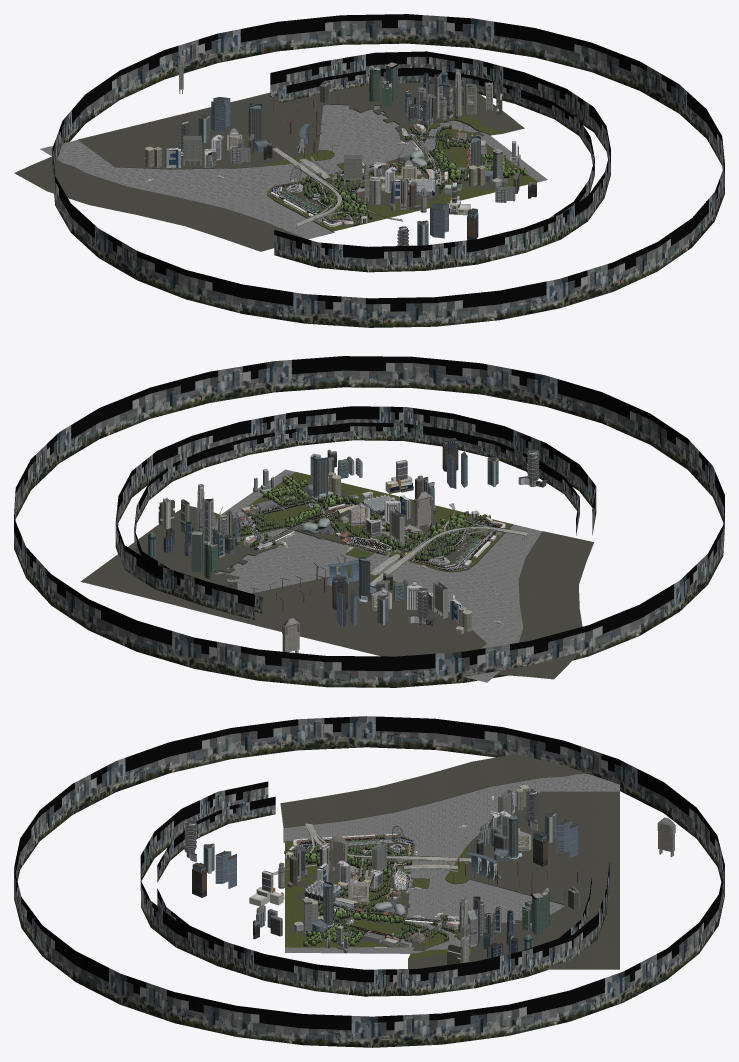
Rendered from marina-bay-track.glb.
3 views of the same model, one above another, from view 1: azimuth 30°, elevation 25°; view 2: azimuth 150°, elevation 25°; view 3: azimuth 270°, elevation 25° (orthographic). The views are drawn at different scales.
Visible parts, largest first — view 1: Untitled; view 2: Untitled; view 3: Untitled.
Boxes of the visible parts, x1,y1,x2,y2 form: Untitled: [14, 14, 724, 327]; Untitled: [14, 356, 724, 687]; Untitled: [14, 716, 724, 1047].
Size of the model in its own units: 4301 by 385 by 4301.
Materials: 192 (187 with a texture image).
